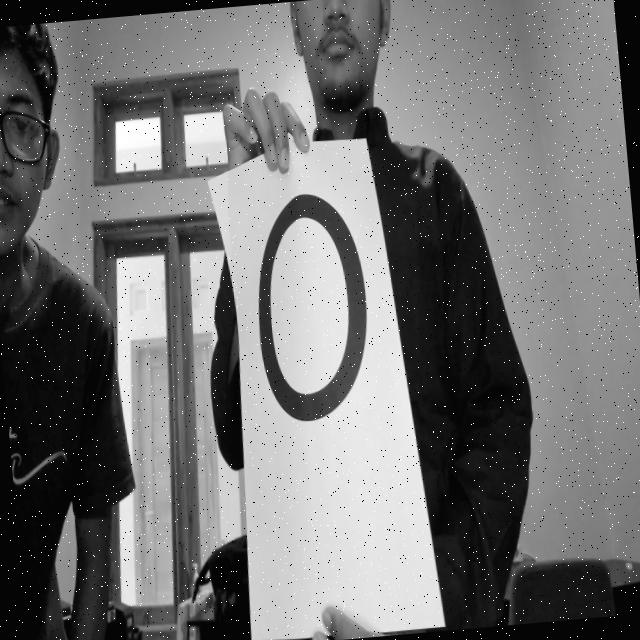o: (241, 168, 384, 436)
